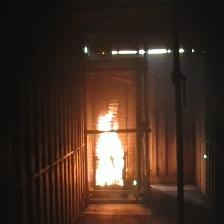fire: (88, 101, 129, 192)
